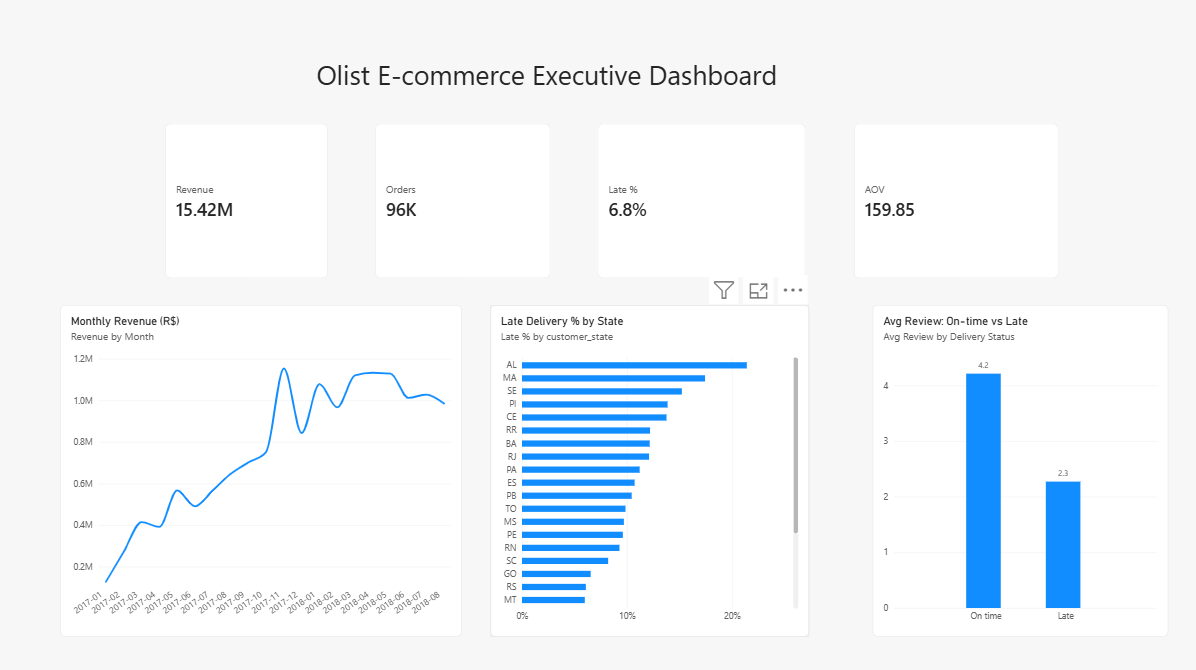

Layout of this report page (visuals, bound fields, positions):
{"tool":"powerbi","page":{"name":"Sales & Delivery","canvas":[1920,1080],"ordinal":0},"visuals":[{"type":"cardVisual","fields":{"Data":["orders_flat.Revenue"]},"box":[265,197.5,260,247.5],"z":0},{"type":"cardVisual","fields":{"Data":["orders_flat.Orders"]},"box":[602.5,197.5,280,247.5],"z":1000},{"type":"cardVisual","fields":{"Data":["orders_flat.AOV"]},"box":[1367.5,197.5,327.5,247.5],"z":2000},{"type":"cardVisual","fields":{"Data":["orders_flat.Late %"]},"box":[957.5,197.5,332.5,247.5],"z":3000},{"type":"lineChart","title":"Monthly Revenue (R$)","fields":{"Category":["orders_flat.Month"],"Y":["orders_flat.Revenue"]},"box":[97.5,487.5,642.5,530],"z":4000},{"type":"clusteredBarChart","title":"Late Delivery % by State","fields":{"Category":["orders_flat.customer_state"],"Y":["orders_flat.Late %"]},"box":[785,487.5,510,530],"z":5000},{"type":"columnChart","title":"Avg Review: On-time vs Late","fields":{"Category":["orders_flat.Delivery Status"],"Y":["orders_flat.Avg Review"]},"box":[1397.5,487.5,472.5,530],"z":5001},{"type":"textbox","box":[507.5,90,1242.5,107.5],"z":5002}]}

Visuals, with their boxes in screenshot pixels (x1, y1, x2, y2), scaled from the page's 1920x1080 canvas onto the 1196x670 screenshot:
cardVisual - orders_flat.Revenue: 165,123,327,276
cardVisual - orders_flat.Orders: 375,123,550,276
cardVisual - orders_flat.AOV: 852,123,1056,276
cardVisual - orders_flat.Late %: 596,123,804,276
"Monthly Revenue (R$)" lineChart: 61,302,461,631
"Late Delivery % by State" clusteredBarChart: 489,302,807,631
"Avg Review: On-time vs Late" columnChart: 871,302,1165,631
textbox: 316,56,1090,123
